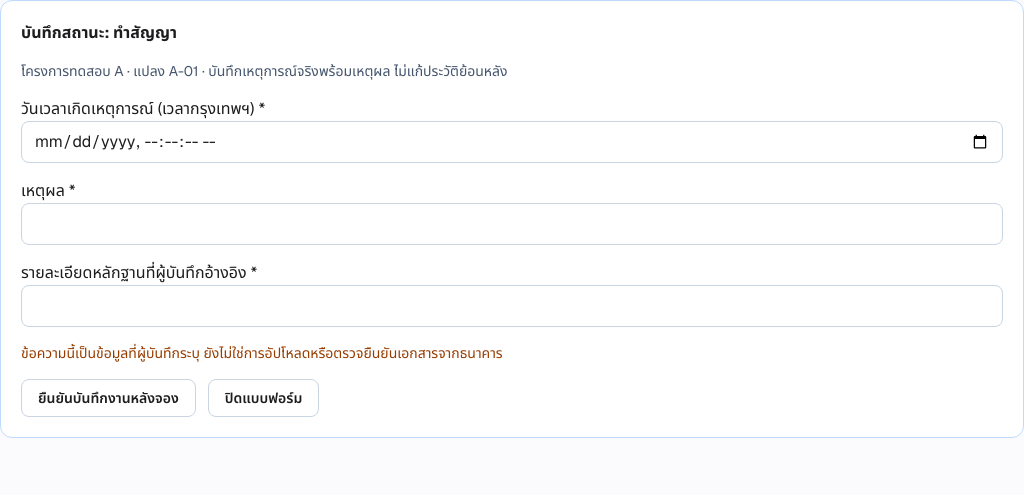
post-booking form › requires รายละเอียดหลักฐานที่ผู้บันทึกอ้างอิง *
In the field labelled "วันเวลาเกิดเหตุการณ์ (เวลากรุงเทพฯ) *": (512, 142) [21,121,1003,163], type "2026-09-21T10:00"
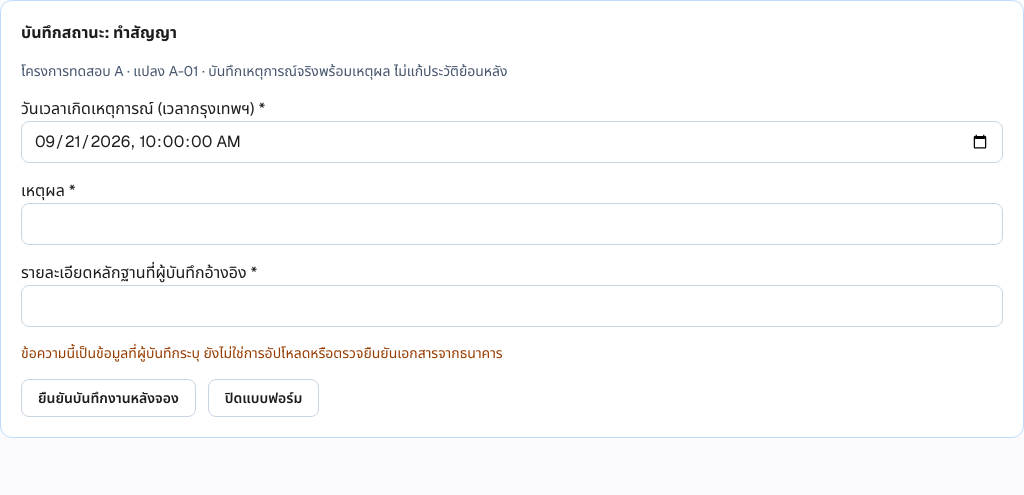
In the field labelled "เหตุผล *": (512, 224) [21,203,1003,245], type "ลูกค้ายืนยันแล้ว"
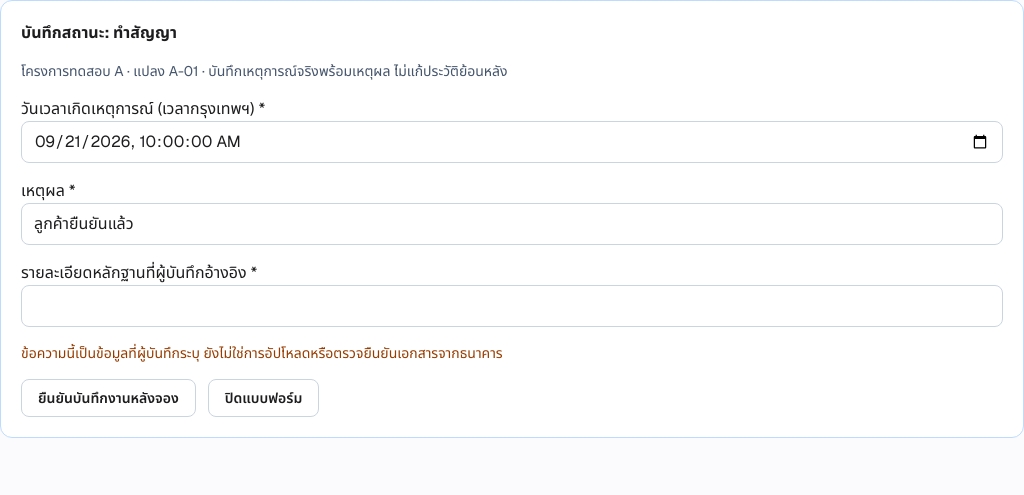
In the field labelled "รายละเอียดหลักฐานที่ผู้บันทึกอ้างอิง *": (512, 306) [21,285,1003,327], type "เอกสารเลขที่ทดสอบ 01"
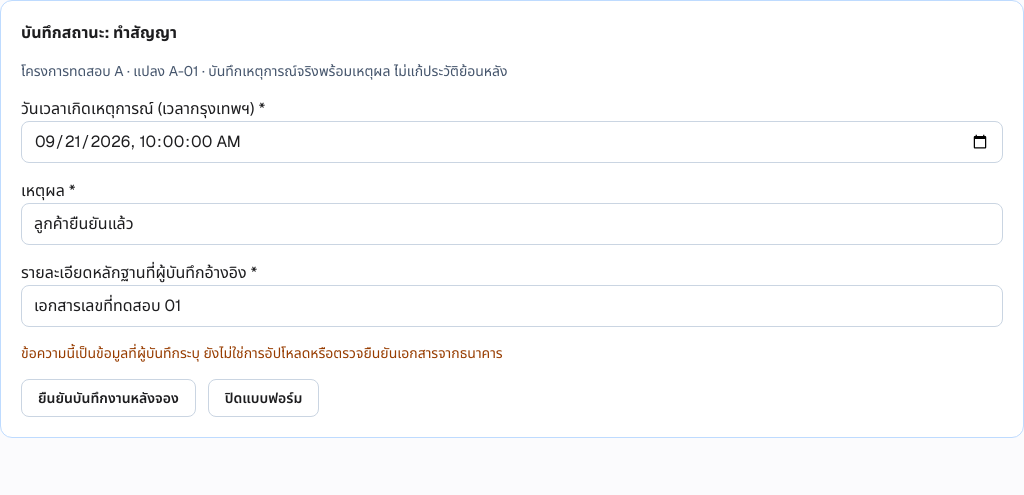
Clear the field labelled "รายละเอียดหลักฐานที่ผู้บันทึกอ้างอิง *": (512, 306) [21,285,1003,327]
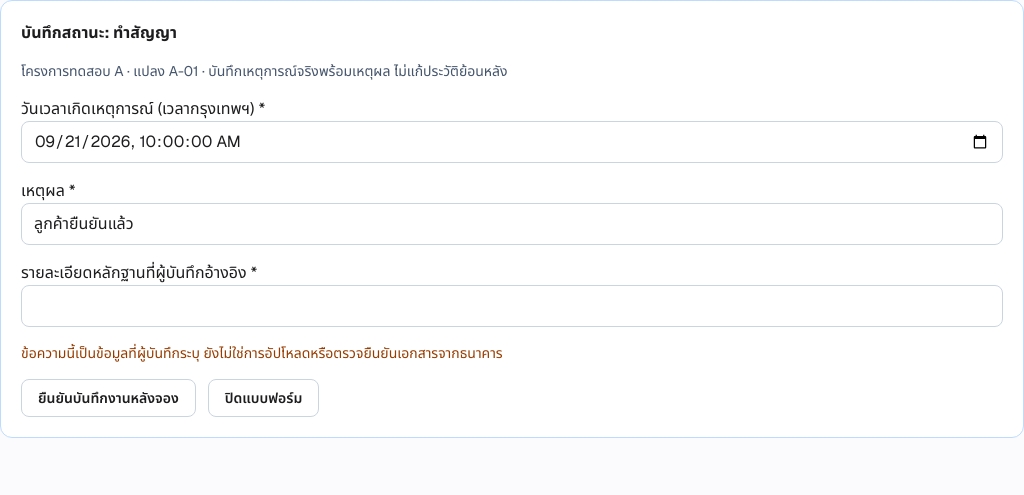
Submit the form named "บันทึกงานหลังจอง"
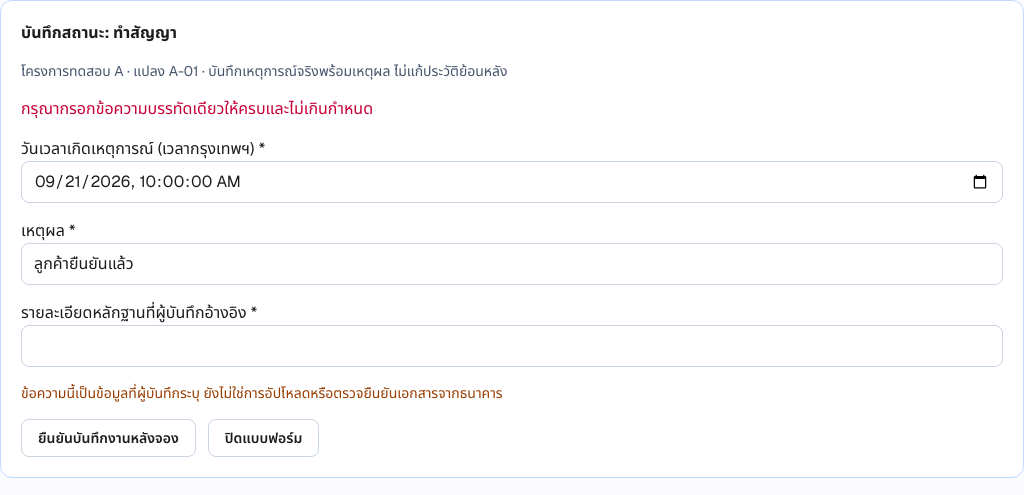
Check: the message "กรุณากรอกข้อความบรรทัดเดียวให้ครบและไม่เกินกำหนด" is shown, box [21,98,373,119]
